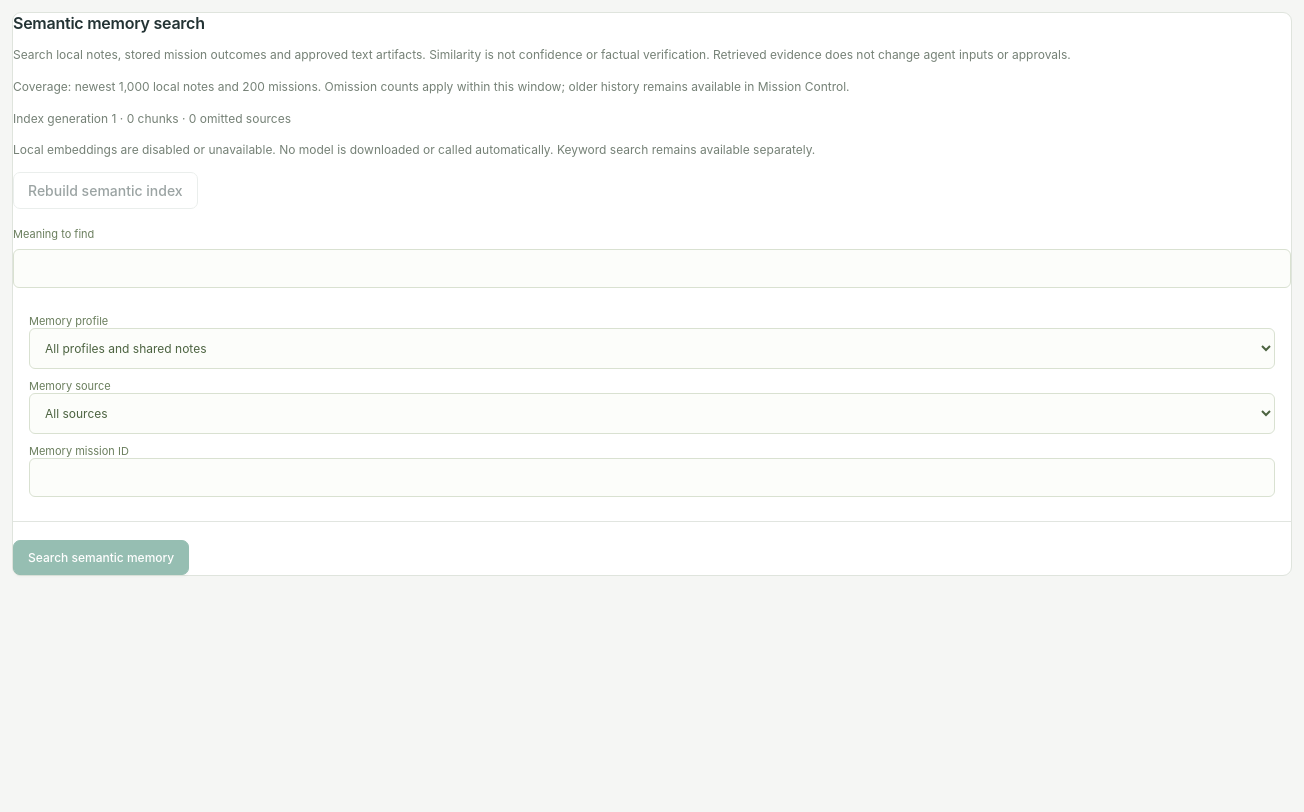
it: disabled embeddings and empty index remain distinct from failures
Expected: the text "Local embeddings are disabled" is shown, left=13, top=142, right=815, bottom=157
Expected: the button "Rebuild semantic index" is disabled, left=13, top=172, right=198, bottom=209
Type "sum" into the search field labelled "Meaning to find".
click(652, 269); type("sum")  # box left=13, top=249, right=1291, bottom=288
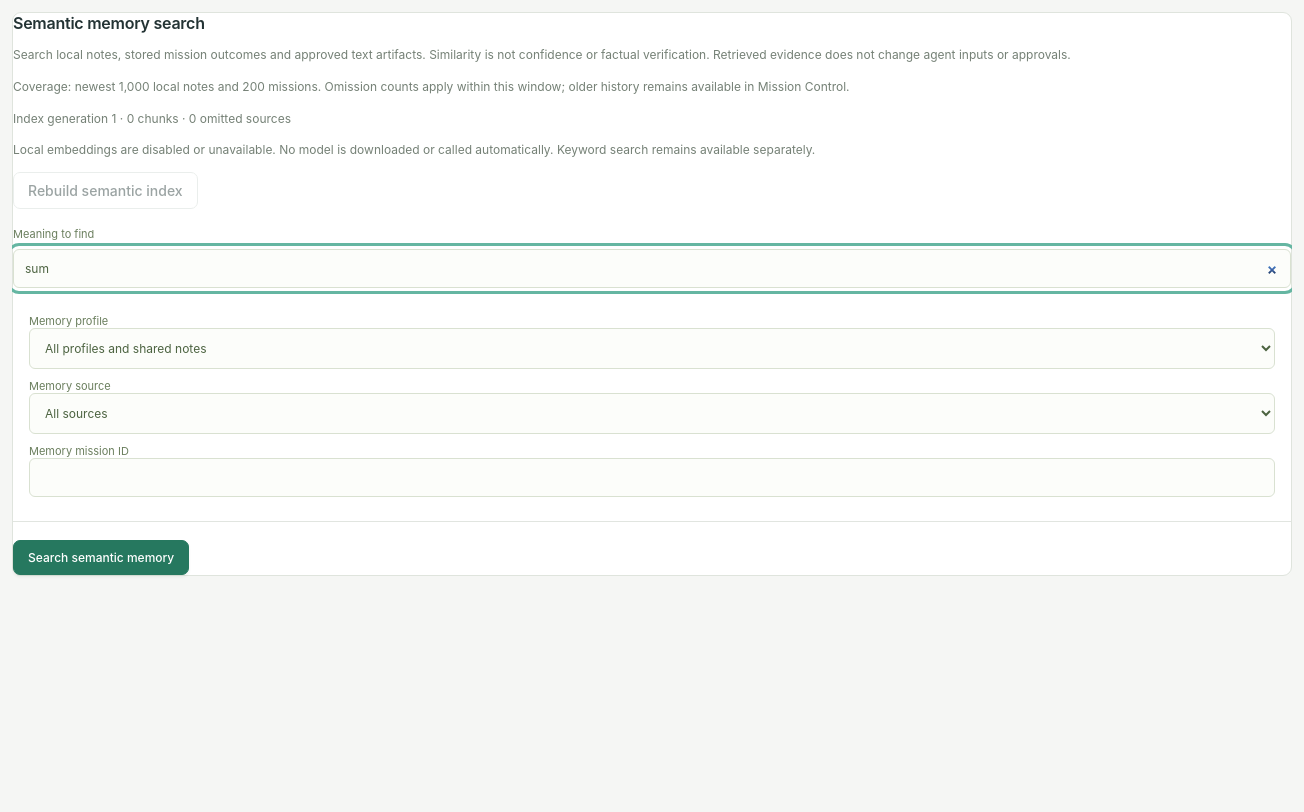
Click the button "Search semantic memory".
click(101, 558)  # box left=13, top=540, right=189, bottom=575
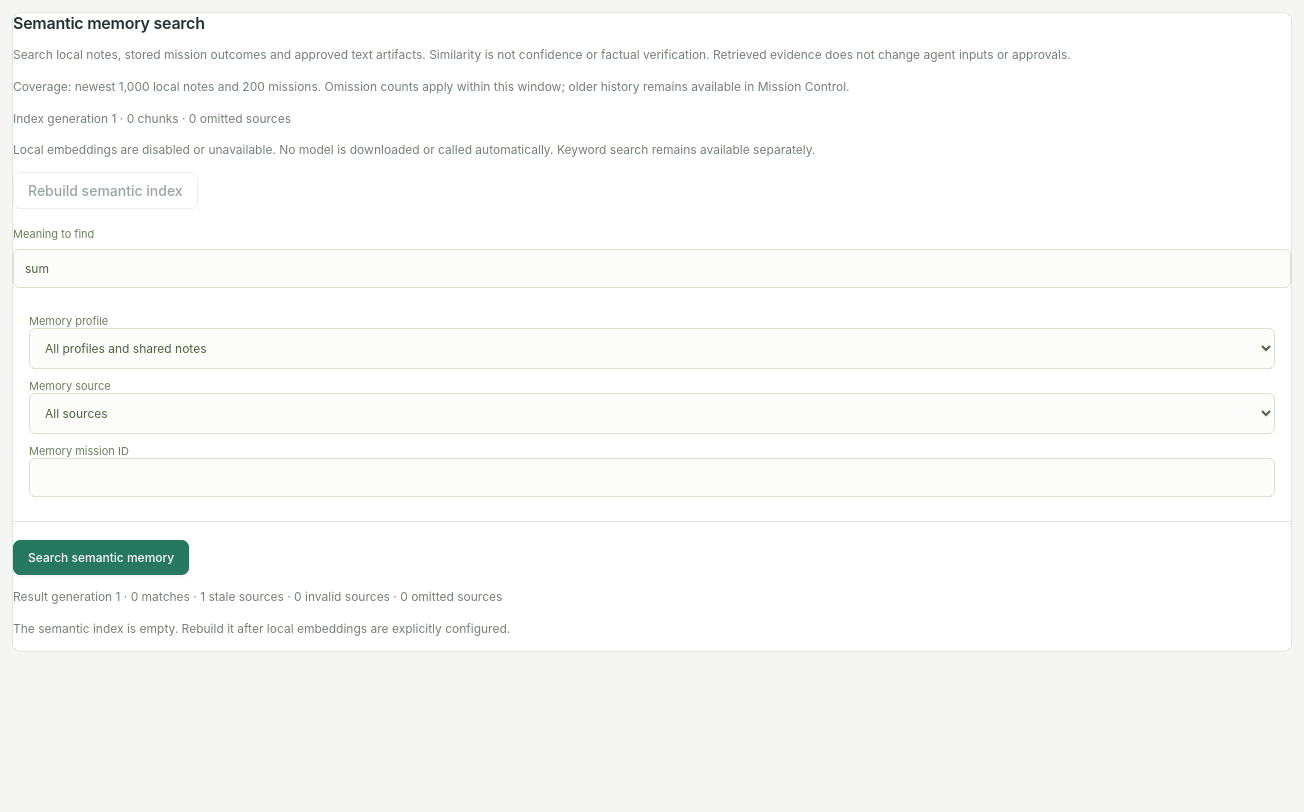
Expected: the text "The semantic index is empty" is shown, left=13, top=621, right=510, bottom=636
